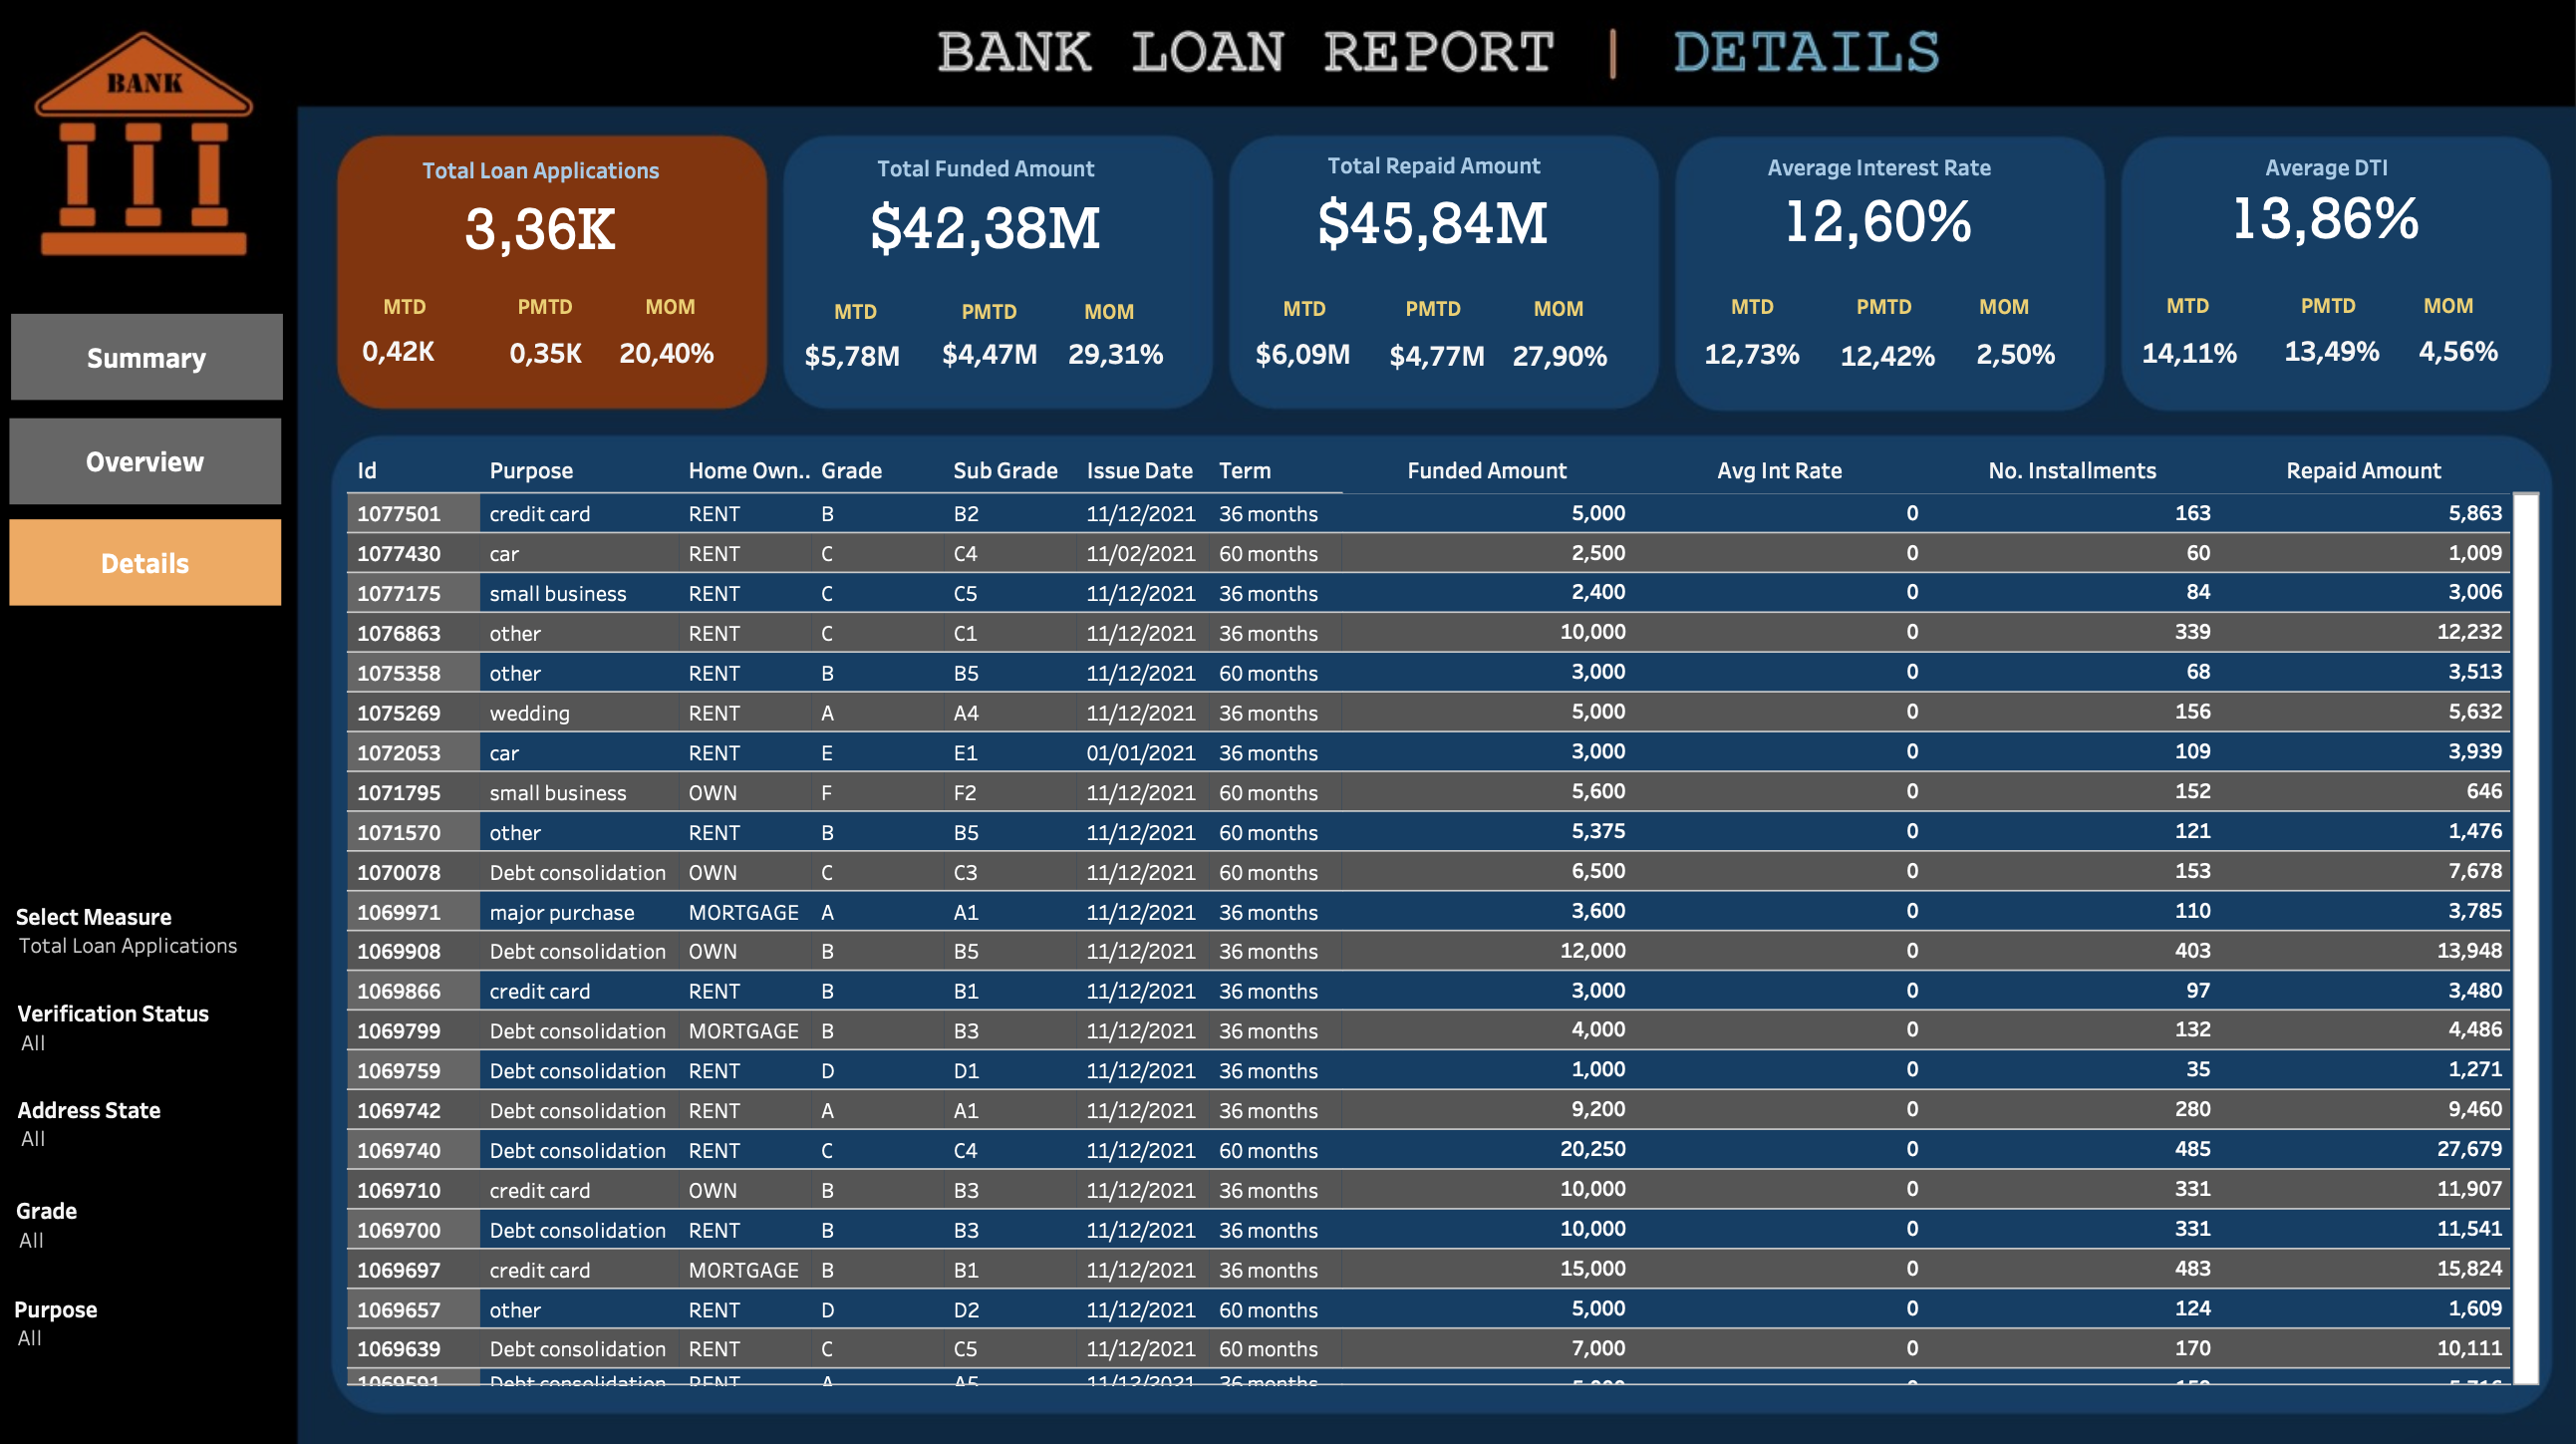

The page's visual inventory and layout, read from the dashboard file:
{"tool":"tableau","page":{"name":"DETAILS","canvas":[1600,900],"ordinal":0},"visuals":[{"type":"image","param":"/Users/arafathjazeeb/Library/CloudStorage/OneDrive-UniversityofPisa/Data Analyst","box":[8,8,1584,884]},{"type":"worksheet","title":"TRA","mark":"Automatic","box":[770,100,238,81]},{"type":"worksheet","title":"AIR","mark":"Automatic","box":[1037,101,241,77]},{"type":"worksheet","title":"DTI","mark":"Automatic","box":[1307,101,241,72]},{"type":"worksheet","title":"TFA","mark":"Automatic","box":[498,102,241,83]},{"type":"worksheet","title":"TLA","mark":"Automatic","box":[229,103,242,82]},{"type":"text","box":[1328,184,33,30]},{"type":"text","box":[1409,184,39,30]},{"type":"text","box":[1483,184,39,30]},{"type":"text","box":[252,185,33,30]},{"type":"text","box":[333,185,39,30]},{"type":"text","box":[410,185,39,30]},{"type":"text","box":[1065,185,33,30]},{"type":"text","box":[1141,185,39,30]},{"type":"text","box":[1215,185,39,30]},{"type":"text","box":[795,186,33,30]},{"type":"text","box":[869,186,39,30]},{"type":"text","box":[946,186,39,30]},{"type":"text","box":[524,188,33,30]},{"type":"text","box":[601,188,39,30]},{"type":"text","box":[675,188,39,30]},{"type":"worksheet","title":"MTD_AIR","mark":"Automatic","box":[1043,203,77,53]},{"type":"dashboard-object","box":[30,205,164,52]},{"type":"worksheet","title":"PMTD_TLA","mark":"Automatic","box":[310,207,86,43]},{"type":"worksheet","title":"MTD_TFA","mark":"Automatic","box":[501,207,75,46]},{"type":"worksheet","title":"MTD_TRA","mark":"Automatic","box":[768,208,84,43]},{"type":"worksheet","title":"PMTD_AIR","mark":"Automatic","box":[1121,208,84,44]},{"type":"worksheet","title":"PMTD_DTI","mark":"Automatic","box":[1390,208,82,39]},{"type":"worksheet","title":"MOM_TFA","mark":"Automatic","box":[654,209,87,41]},{"type":"worksheet","title":"MTD_DTI","mark":"Automatic","box":[1309,209,73,39]},{"type":"worksheet","title":"PMTD_TFA","mark":"Automatic","box":[581,210,81,39]},{"type":"worksheet","title":"MOM_DTI","mark":"Automatic","box":[1472,210,70,34]},{"type":"worksheet","title":"MTD_TLA","mark":"Automatic","box":[229,211,71,33]},{"type":"worksheet","title":"PMTD_TRA","mark":"Automatic","box":[853,211,76,38]},{"type":"worksheet","title":"MOM_TRA","mark":"Automatic","box":[926,211,79,38]},{"type":"worksheet","title":"MOM_AIR","mark":"Automatic","box":[1197,211,86,36]},{"type":"worksheet","title":"MOM_TLA","mark":"Automatic","box":[392,212,68,32]},{"type":"dashboard-object","box":[29,268,164,52]},{"type":"worksheet","title":"Details Tab","mark":"Automatic","rows":["id","purpose","home_ownership","grade","sub_grade","issue_date","term"],"box":[233,285,1323,567]},{"type":"dashboard-object","box":[29,329,164,52]},{"type":"parameter","param":"[Parameters].[Parameter 1]","box":[33,558,160,44]},{"type":"filter","title":"AIR","param":"[federated.19laxnm011tjax19or1he1sgg5cj].[none:verification_status:nk]","box":[34,617,160,58]},{"type":"filter","title":"AIR","param":"[federated.19laxnm011tjax19or1he1sgg5cj].[none:address_state:nk]","box":[34,675,160,54]},{"type":"filter","title":"AIR","param":"[federated.19laxnm011tjax19or1he1sgg5cj].[none:grade:nk]","box":[33,736,160,49]},{"type":"filter","title":"AIR","param":"[federated.19laxnm011tjax19or1he1sgg5cj].[none:purpose:nk]","box":[32,795,160,60]}]}

Visuals, with their boxes in screenshot pixels (x1, y1, x2, y2), scaled from the page's 1600x900 canvas onto the 2576x1444 screenshot:
image: l=13, t=13, r=2563, b=1431
"TRA" worksheet: l=1240, t=160, r=1623, b=290
"AIR" worksheet: l=1669, t=162, r=2058, b=286
"DTI" worksheet: l=2105, t=162, r=2492, b=278
"TFA" worksheet: l=802, t=163, r=1190, b=297
"TLA" worksheet: l=369, t=165, r=758, b=297
text: l=2139, t=295, r=2191, b=344
text: l=2268, t=295, r=2331, b=344
text: l=2388, t=295, r=2450, b=344
text: l=406, t=297, r=458, b=345
text: l=536, t=297, r=599, b=345
text: l=660, t=297, r=722, b=345
text: l=1715, t=297, r=1768, b=345
text: l=1837, t=297, r=1899, b=345
text: l=1956, t=297, r=2019, b=345
text: l=1280, t=298, r=1333, b=347
text: l=1399, t=298, r=1462, b=347
text: l=1523, t=298, r=1585, b=347
text: l=844, t=302, r=897, b=350
text: l=968, t=302, r=1030, b=350
text: l=1087, t=302, r=1150, b=350
"MTD_AIR" worksheet: l=1679, t=326, r=1804, b=411
dashboard-object: l=48, t=329, r=312, b=413
"PMTD_TLA" worksheet: l=499, t=332, r=638, b=401
"MTD_TFA" worksheet: l=806, t=332, r=928, b=406
"MTD_TRA" worksheet: l=1237, t=334, r=1372, b=403
"PMTD_AIR" worksheet: l=1805, t=334, r=1940, b=405
"PMTD_DTI" worksheet: l=2238, t=334, r=2370, b=397
"MOM_TFA" worksheet: l=1053, t=335, r=1193, b=401
"MTD_DTI" worksheet: l=2108, t=335, r=2225, b=398
"PMTD_TFA" worksheet: l=936, t=337, r=1066, b=400
"MOM_DTI" worksheet: l=2370, t=337, r=2482, b=392
"MTD_TLA" worksheet: l=369, t=339, r=483, b=392
"PMTD_TRA" worksheet: l=1373, t=339, r=1496, b=400
"MOM_TRA" worksheet: l=1491, t=339, r=1618, b=400
"MOM_AIR" worksheet: l=1927, t=339, r=2066, b=397
"MOM_TLA" worksheet: l=631, t=340, r=740, b=392
dashboard-object: l=47, t=430, r=311, b=513
"Details Tab" worksheet: l=375, t=457, r=2505, b=1367
dashboard-object: l=47, t=528, r=311, b=611
parameter: l=53, t=895, r=311, b=966
"AIR" filter: l=55, t=990, r=312, b=1083
"AIR" filter: l=55, t=1083, r=312, b=1170
"AIR" filter: l=53, t=1181, r=311, b=1260
"AIR" filter: l=52, t=1276, r=309, b=1372
